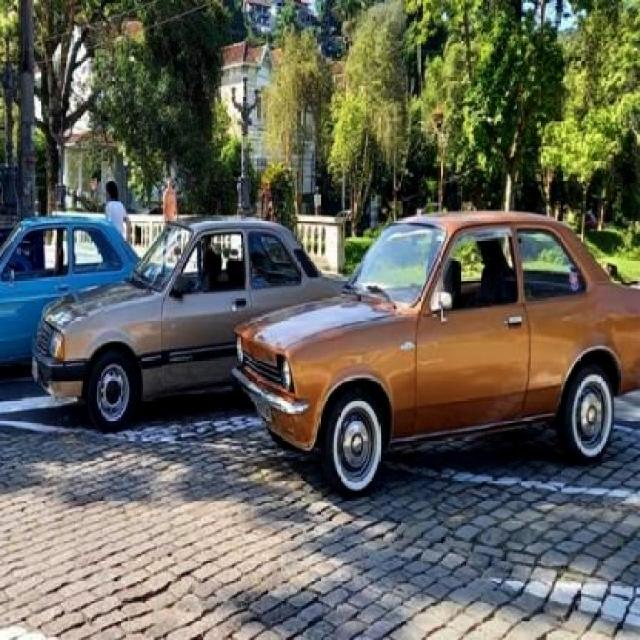car: (229, 210, 640, 487), (31, 222, 356, 440)
